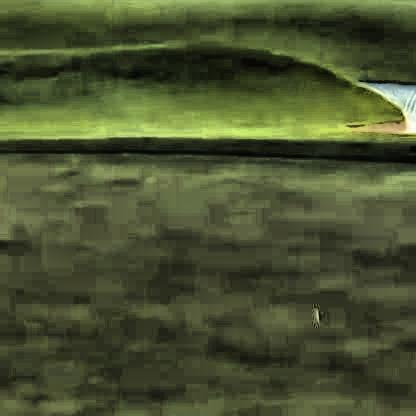golfball: (308, 298, 319, 320)
